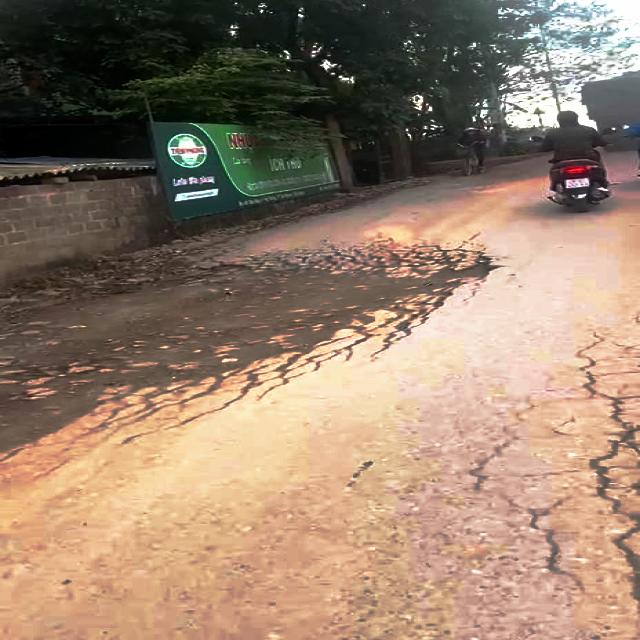pothole: (0, 243, 483, 399)
